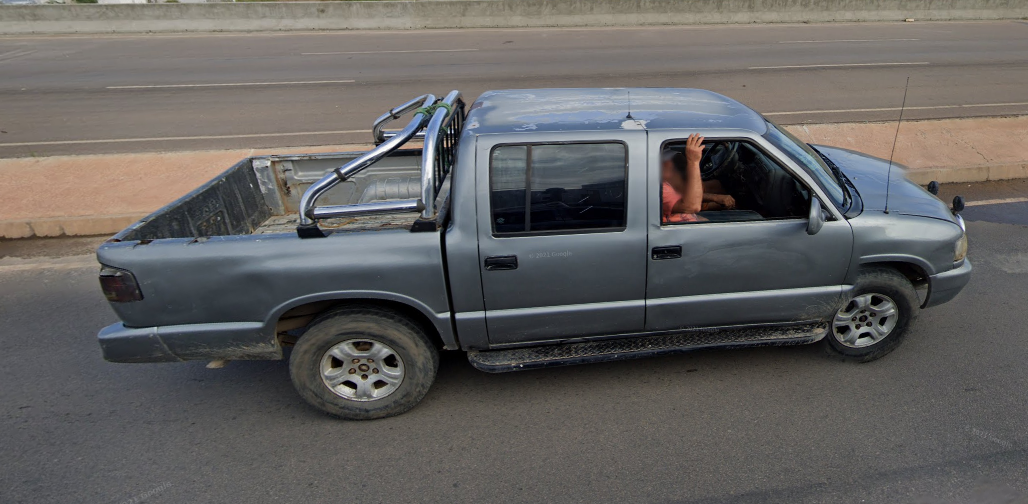car: (93, 77, 977, 422)
